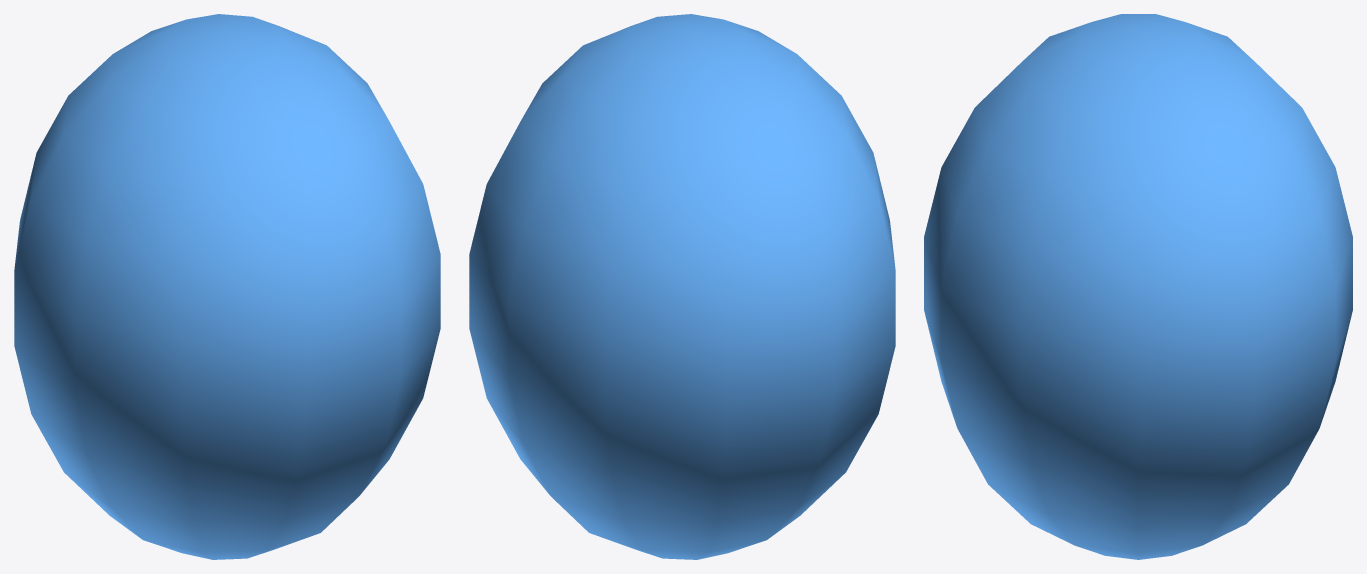
The model's file is sibilobo_stage3.obj.
The picture shows the model from 3 angles, left to right: view 1: azimuth 30°, elevation 25°; view 2: azimuth 150°, elevation 25°; view 3: azimuth 270°, elevation 25°; orthographic projection.
Bounding box in the file's own units: 2.72 × 3.64 × 2.74.
